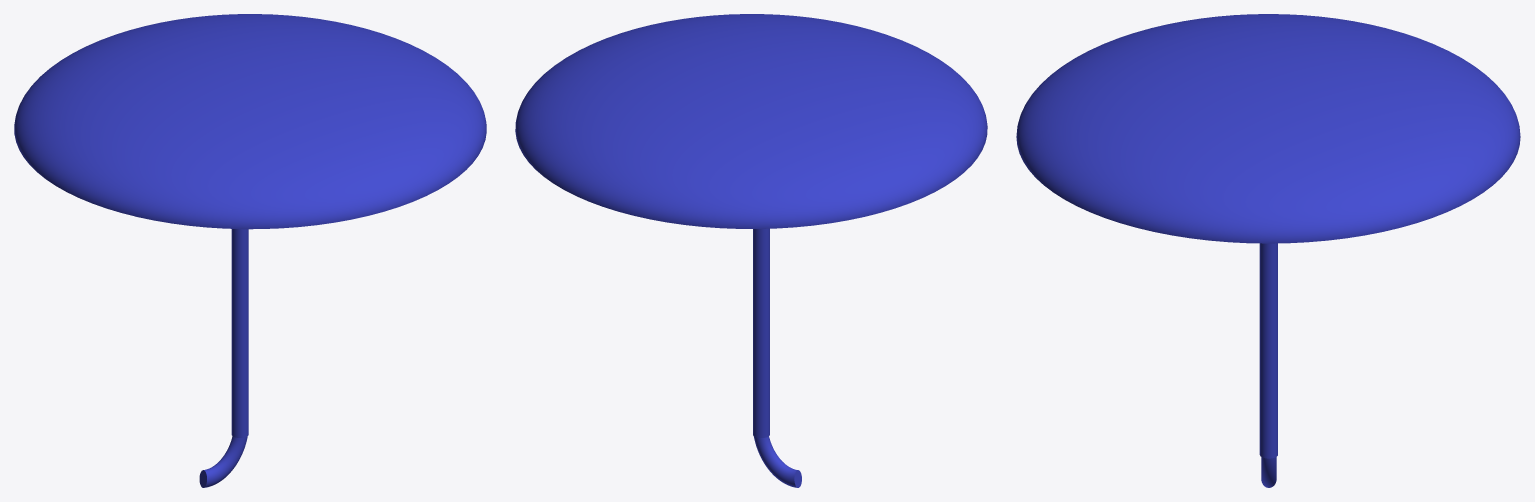
File: parasol.fbx
The picture shows the model from 3 angles, left to right: view 1: azimuth 30°, elevation 25°; view 2: azimuth 150°, elevation 25°; view 3: azimuth 270°, elevation 25°; orthographic projection. The views are drawn at different scales.
Parts seen in each view (by area): view 1: root (×3); view 2: root (×3); view 3: root (×2).
Part boxes in pixels (x1=…): root (×3): x1=14, y1=14, x2=486, y2=487; root (×3): x1=515, y1=14, x2=987, y2=487; root (×2): x1=1016, y1=14, x2=1520, y2=458.
Size of the model in its own units: 0.4481 by 0.4234 by 0.4481.
